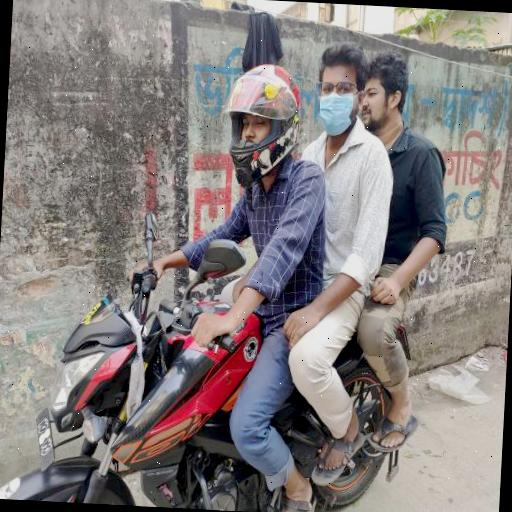helmet: (212, 60, 316, 194)
triple riding: (16, 8, 494, 512)
